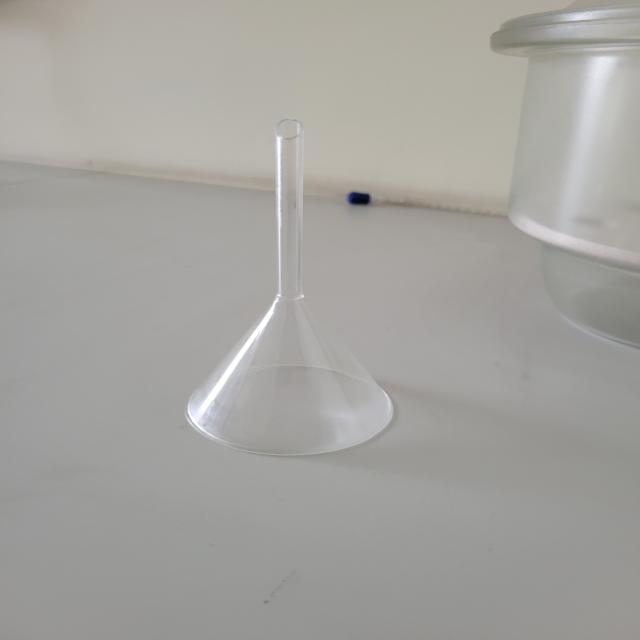Funnel: (148, 91, 434, 500)
